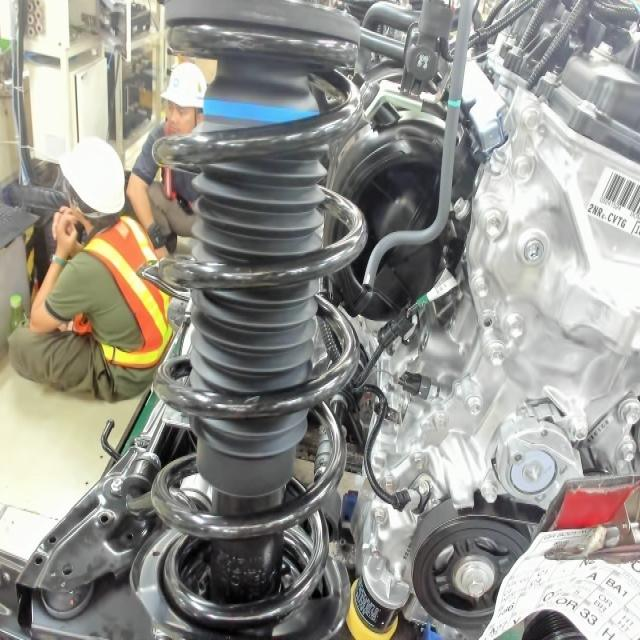Bumper-BR: (197, 90, 315, 128)
Hose Canister-HJ: (445, 95, 465, 111)
